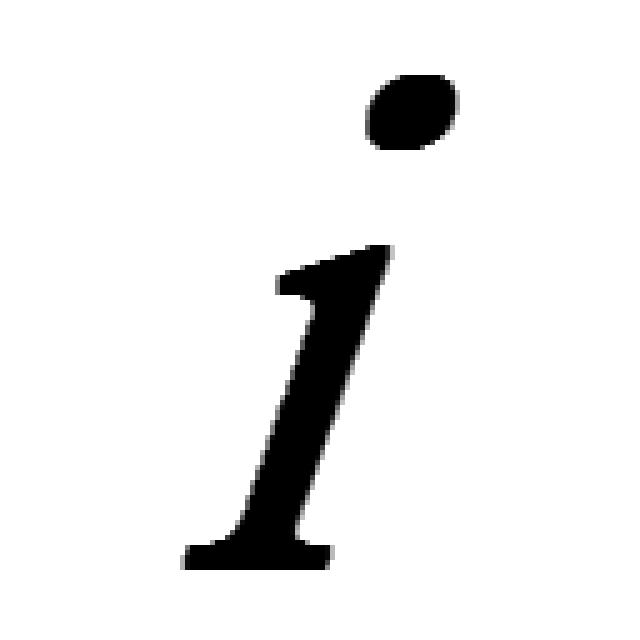I: (185, 68, 452, 574)
